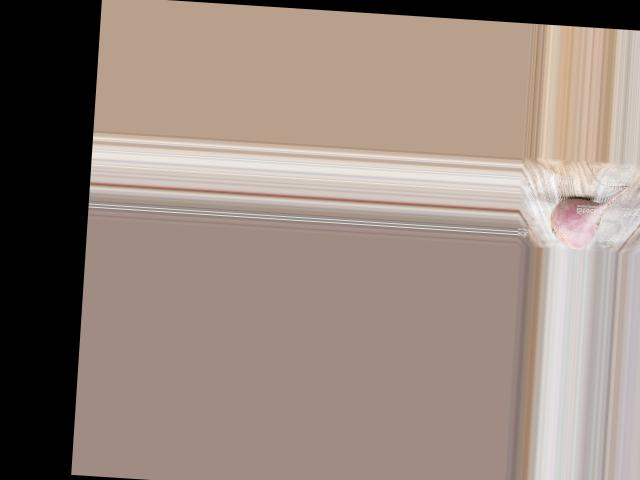beet: (549, 181, 628, 251)
